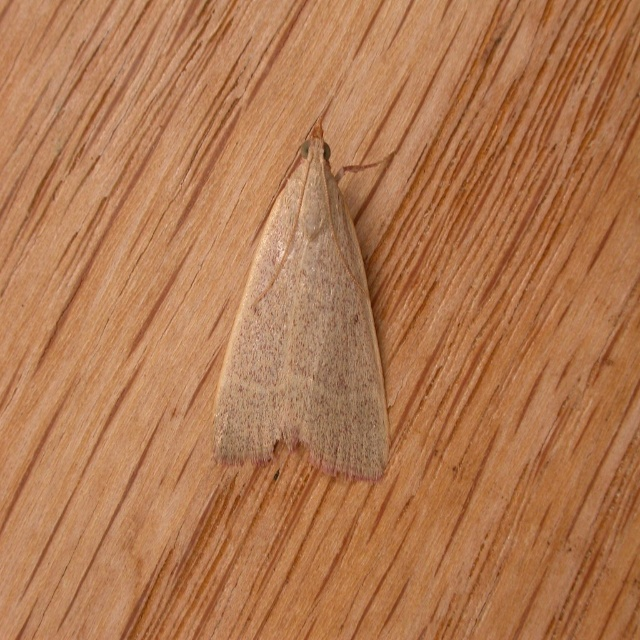Moths and butterflies: (206, 117, 392, 482)
